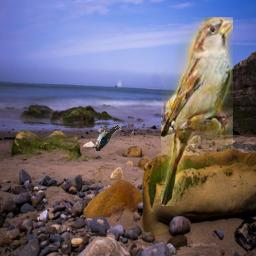Sparrow: (161, 17, 233, 206)
Swallow: (93, 123, 122, 151)
